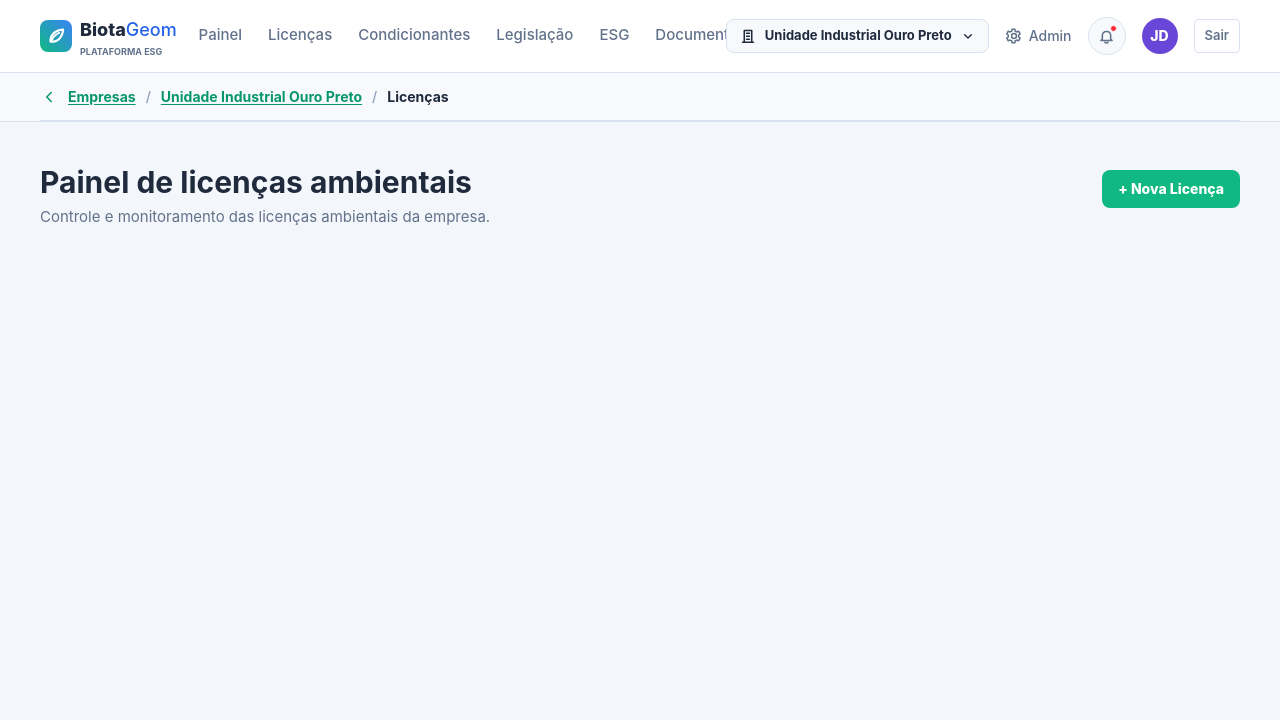
CompanyLicensesPage › opens the "Nova Licença" modal with free-text type and issuing agency fields
Click the button "+ Nova Licença".
click(1171, 189)  # box [1102,170,1240,208]
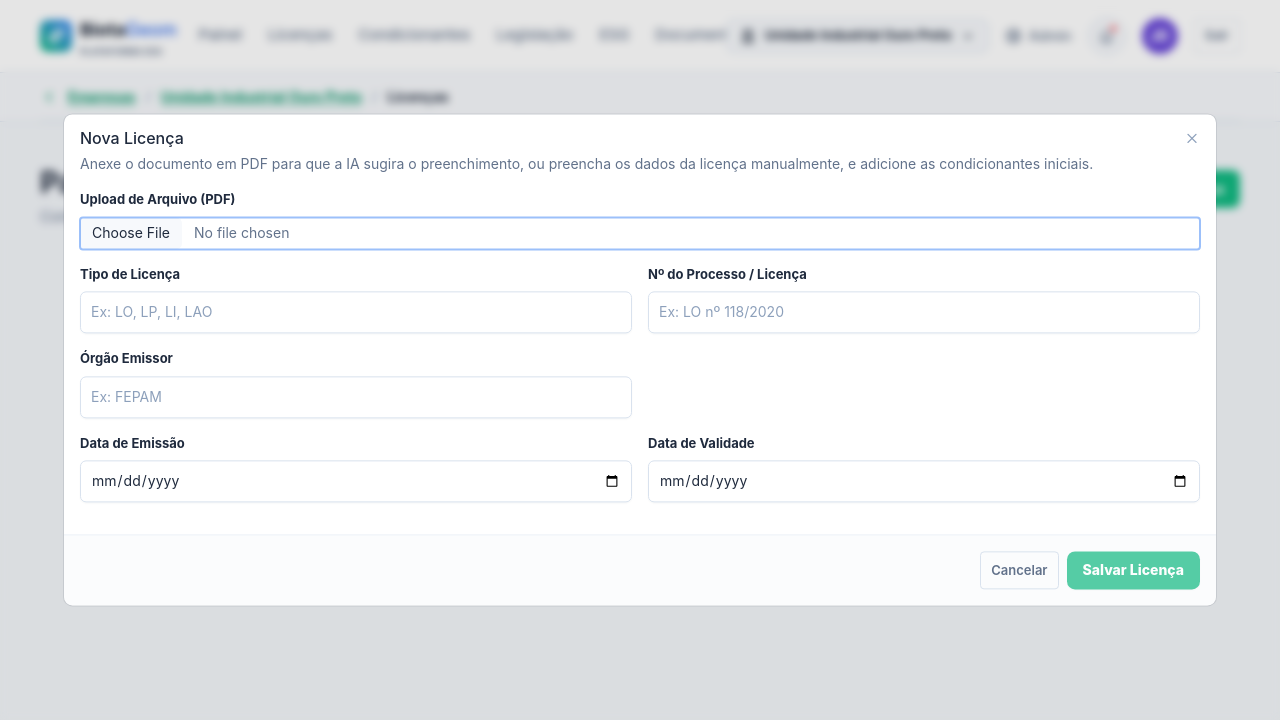
Check: the heading "Nova Licença" is shown, box [80,128,184,148]
Check: the field labelled "Tipo de Licença" is shown, box [91,302,621,322]
Check: the field labelled "Órgão Emissor" is shown, box [91,387,621,407]
